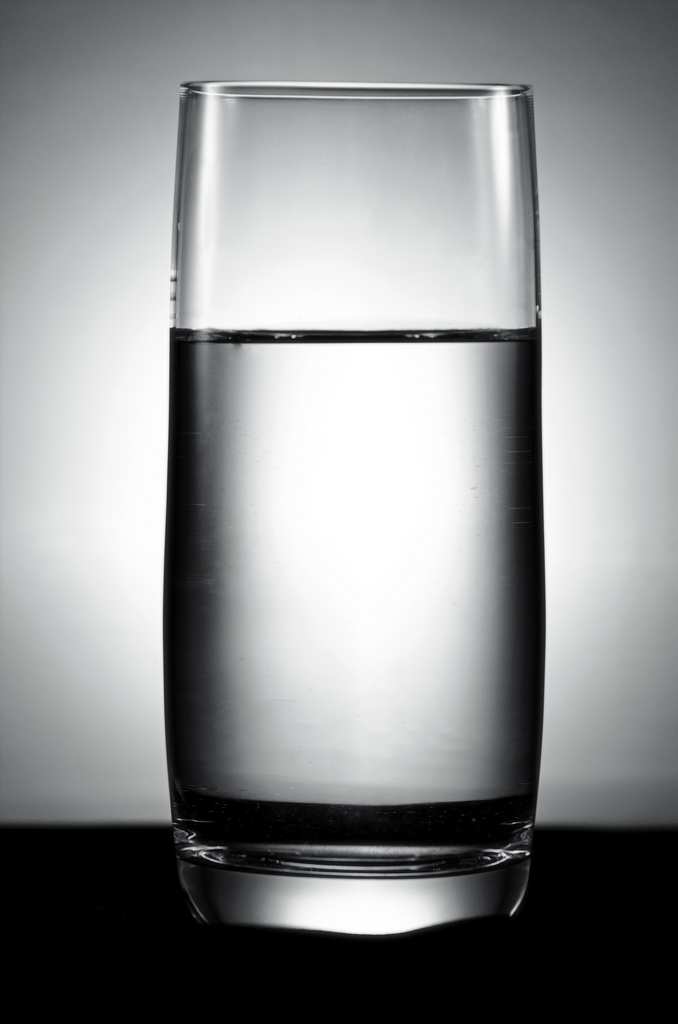glass of water: (136, 55, 546, 953)
